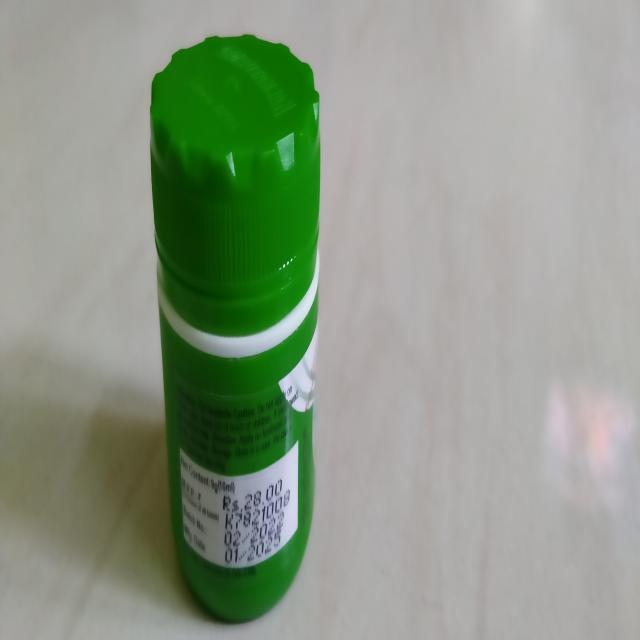eucalyptus oil: (147, 30, 330, 625)
